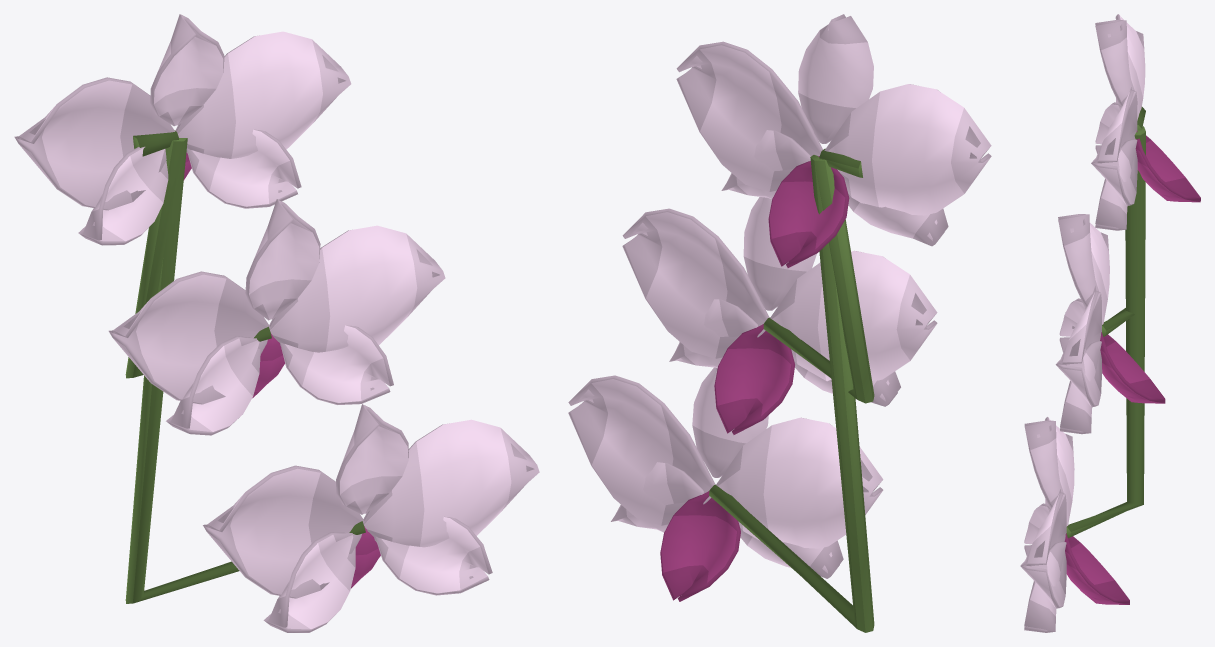
The model's file is garden-orchid-bloom-head-0.glb.
3 views of the same model, side by side, from view 1: azimuth 30°, elevation 25°; view 2: azimuth 150°, elevation 25°; view 3: azimuth 270°, elevation 25° (orthographic). The views are drawn at different scales.
Parts seen in each view (by area): view 1: orchid-bloom-head-0; view 2: orchid-bloom-head-0; view 3: orchid-bloom-head-0.
Part boxes in pixels (x1=…): orchid-bloom-head-0: x1=14, y1=14, x2=539, y2=632; orchid-bloom-head-0: x1=568, y1=14, x2=991, y2=632; orchid-bloom-head-0: x1=1020, y1=14, x2=1200, y2=632.
Size of the model in its own units: 0.1684 by 0.2111 by 0.0664.
